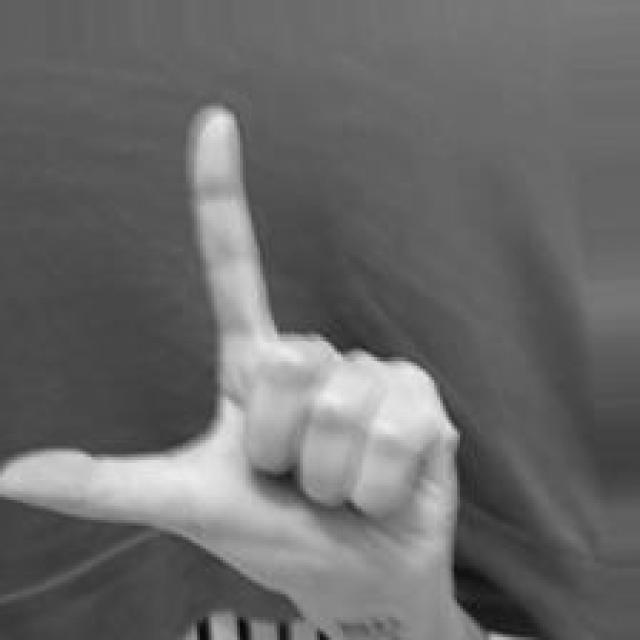L: (0, 99, 466, 625)
